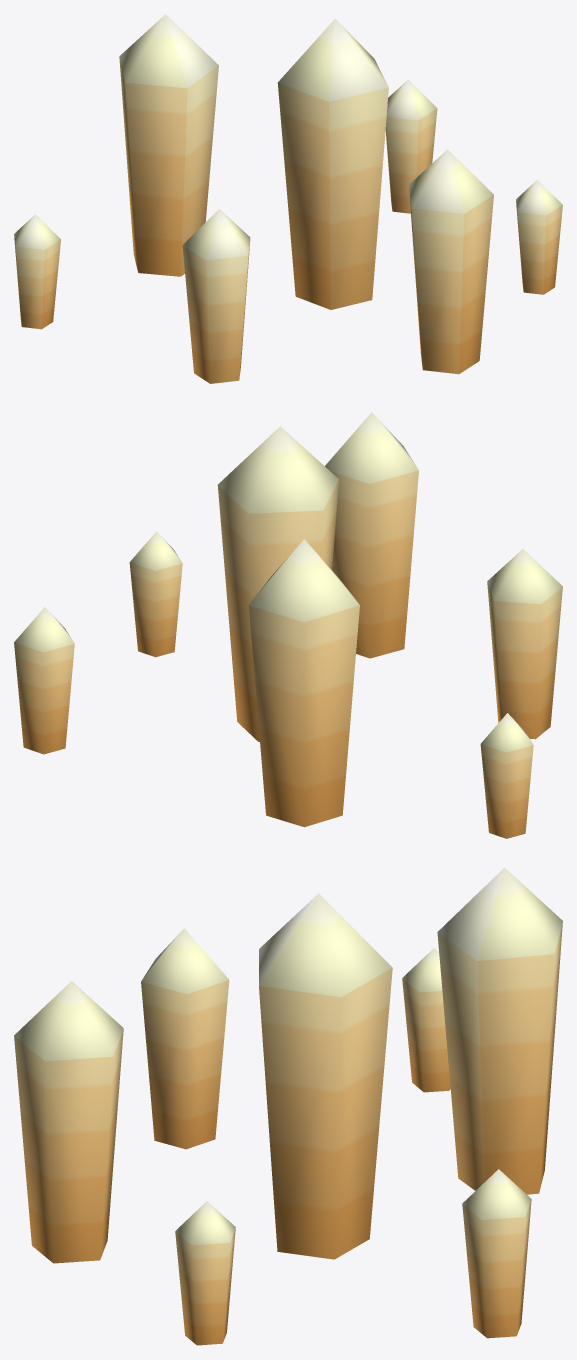
File: plant_005.fbx
3 renders of one model, top to bottom at view 1: azimuth 30°, elevation 25°; view 2: azimuth 150°, elevation 25°; view 3: azimuth 270°, elevation 25°, orthographic. The views are drawn at different scales.
Visible parts, largest first — view 1: plant.005; view 2: plant.005; view 3: plant.005.
Boxes of the visible parts, box(x1,y1,x2,y2) form: plant.005: box(14, 14, 562, 383); plant.005: box(14, 412, 562, 838); plant.005: box(14, 867, 562, 1345).
Size of the model in its own units: 10.01 by 5.81 by 8.33.
